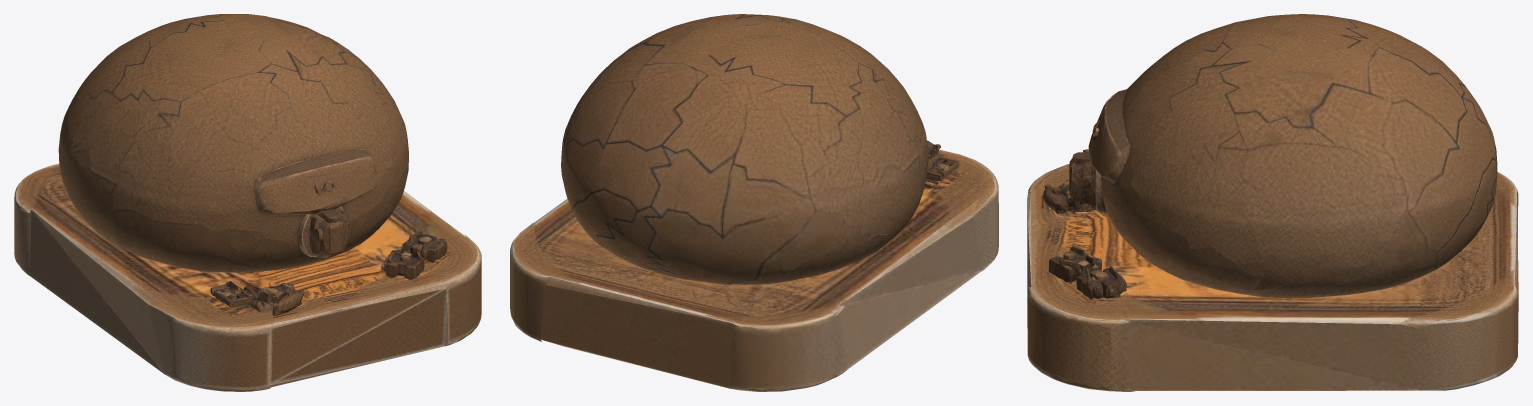
File: loaf.glb
The picture shows the model from 3 angles, left to right: view 1: azimuth 30°, elevation 25°; view 2: azimuth 150°, elevation 25°; view 3: azimuth 270°, elevation 25°; orthographic projection. The views are drawn at different scales.
Visible parts, largest first — view 1: mesh_node; view 2: mesh_node; view 3: mesh_node.
Boxes of the visible parts, box(x1,y1,x2,y2) form: mesh_node: box(14, 14, 481, 391); mesh_node: box(510, 14, 998, 391); mesh_node: box(1027, 14, 1518, 391).
Bounding box in the file's own units: 1.53 × 1.16 × 1.9.
Materials: 1 (1 with a texture image).
